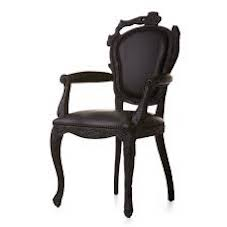chair: (40, 0, 185, 223)
